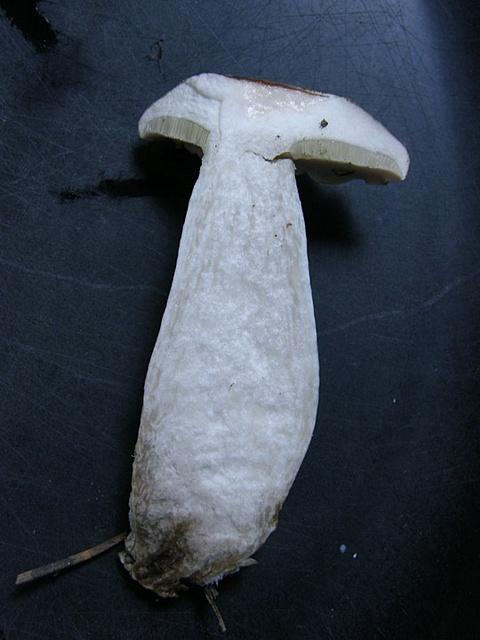edible_mushroom: (116, 69, 410, 601)
